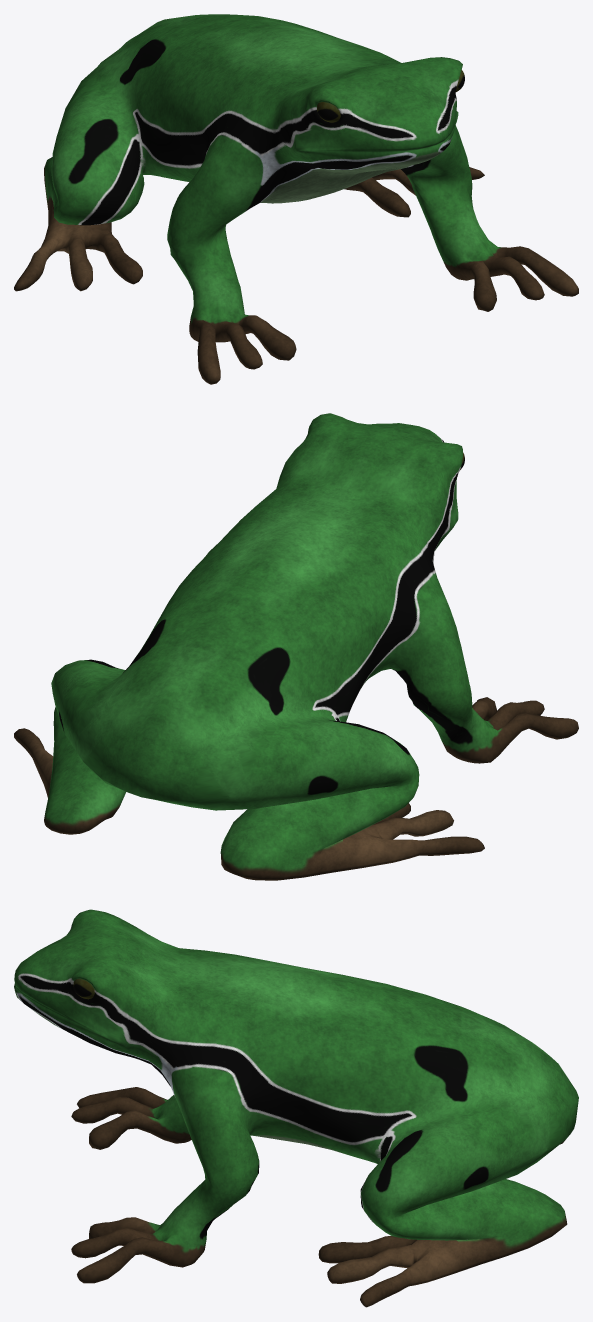
The model's file is Rana Arborícola de Montaña.glb.
The picture shows the model from 3 angles, top to bottom: view 1: azimuth 30°, elevation 25°; view 2: azimuth 150°, elevation 25°; view 3: azimuth 270°, elevation 25°; orthographic projection. The views are drawn at different scales.
Visible parts, largest first — view 1: Rana Arborícola de Montaña; view 2: Rana Arborícola de Montaña; view 3: Rana Arborícola de Montaña.
Part boxes in pixels (x1,y1,x2,y2): Rana Arborícola de Montaña: (14,14,578,384); Rana Arborícola de Montaña: (14,413,578,880); Rana Arborícola de Montaña: (14,909,578,1307).
Size of the model in its own units: 3.24 by 1.74 by 3.44.
1 material, 1 textured.
